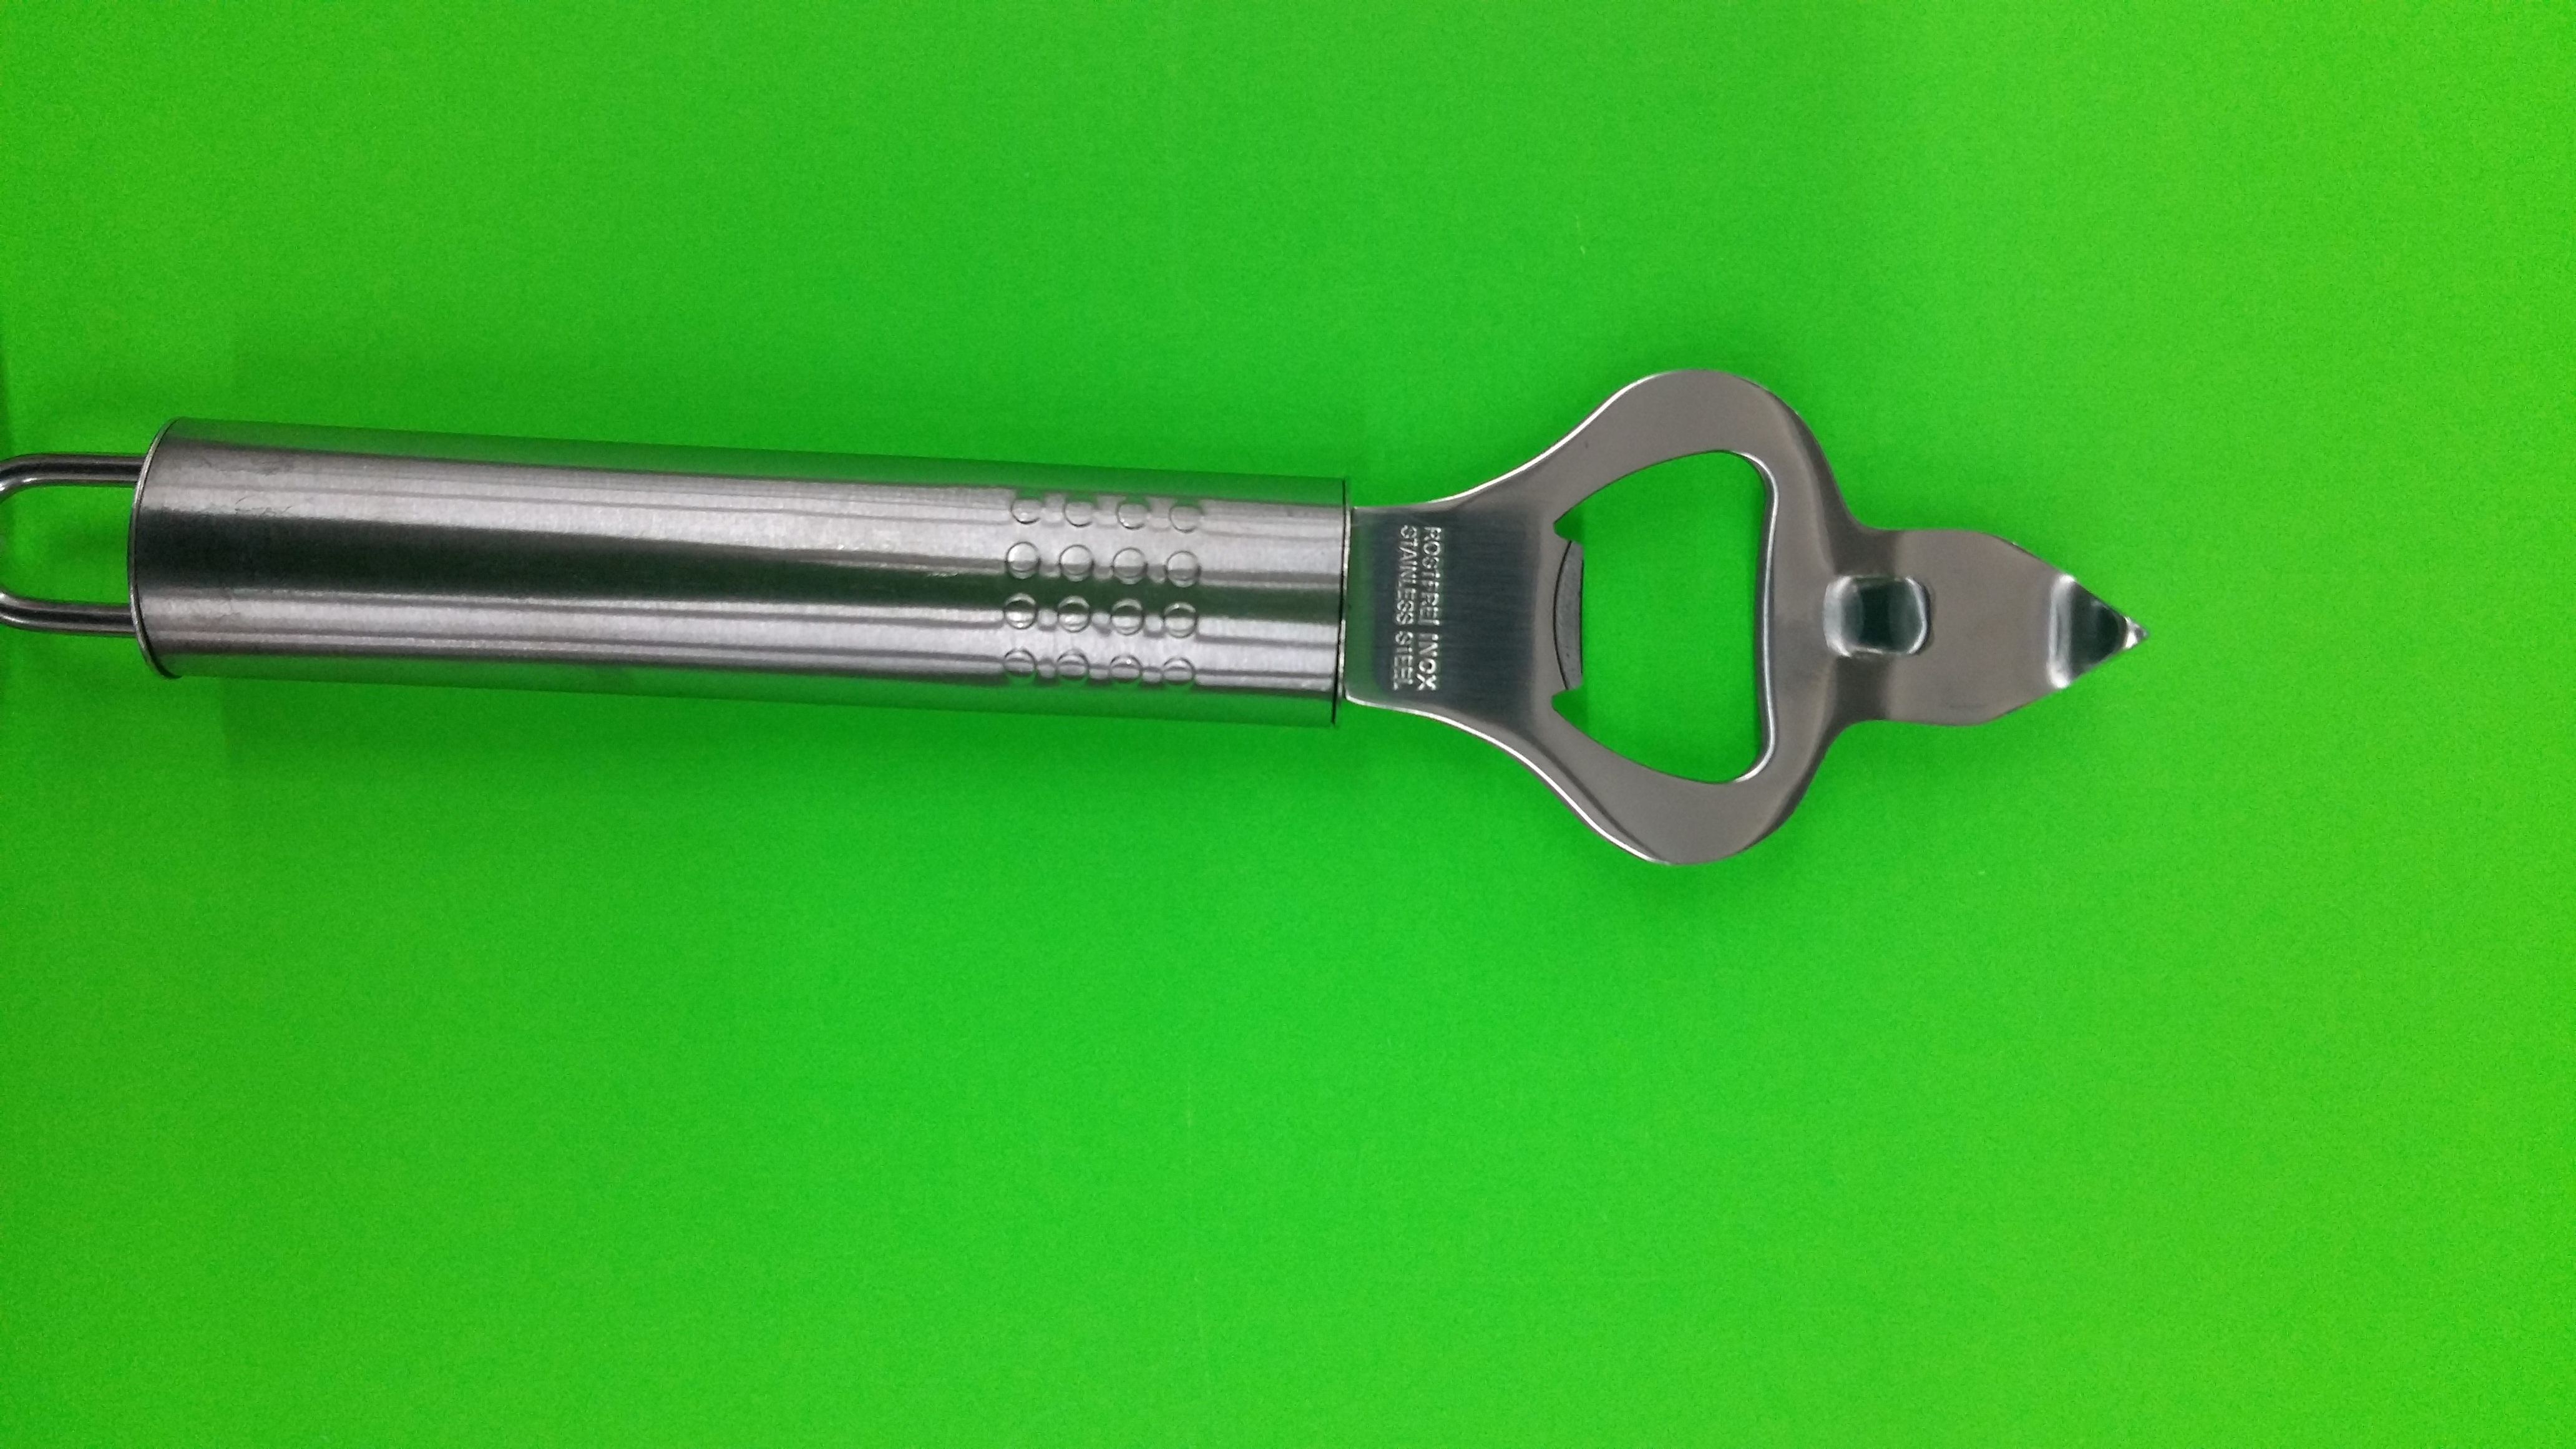bottleopener: (4, 363, 2146, 870)
